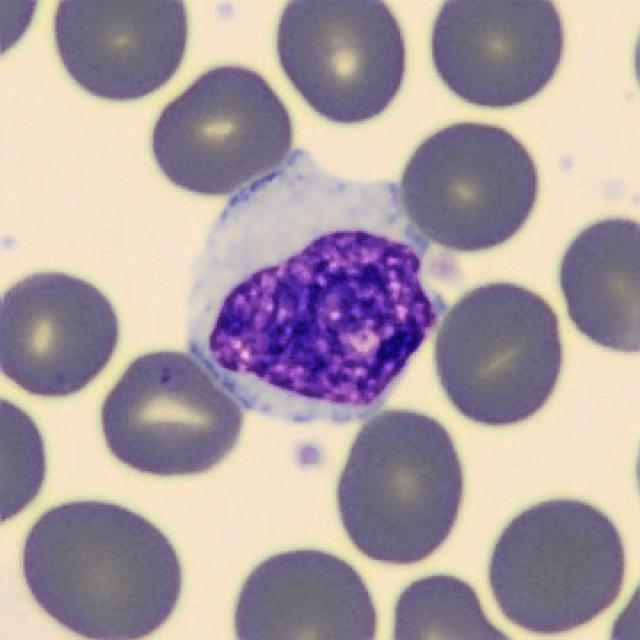Linfocito atipico: (188, 151, 436, 425)
